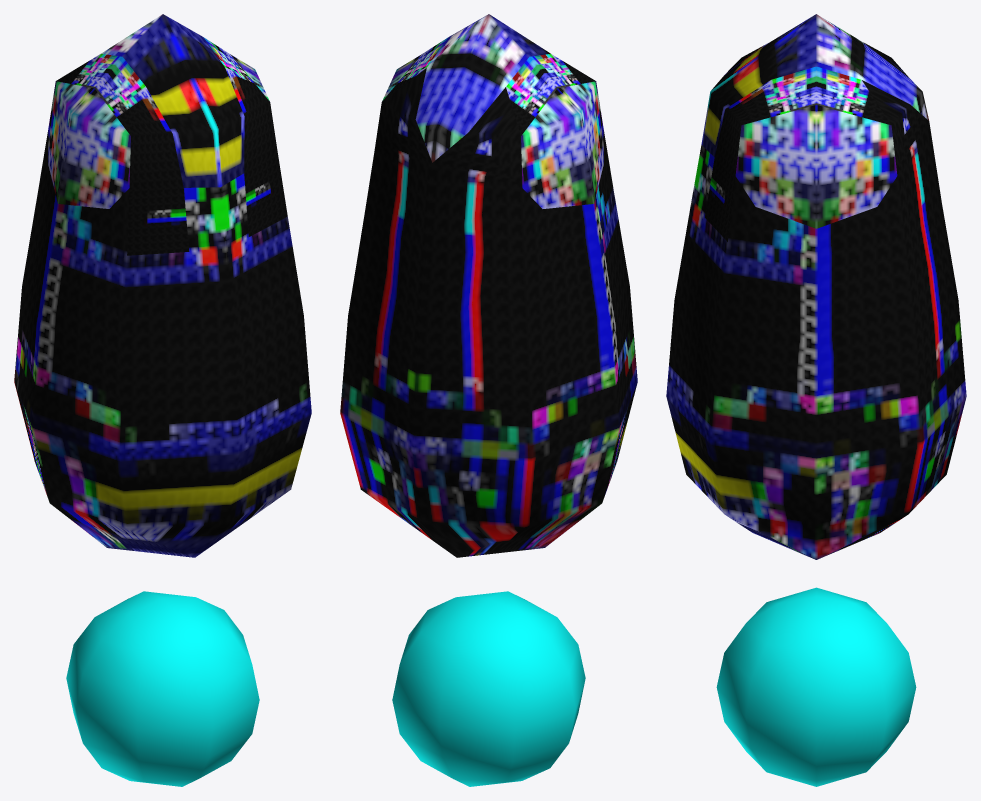
The model's file is cloth_luigi_model.glb.
The picture shows the model from 3 angles, left to right: view 1: azimuth 30°, elevation 25°; view 2: azimuth 150°, elevation 25°; view 3: azimuth 270°, elevation 25°; orthographic projection.
Parts seen in each view (by area): view 1: cloth_luigi_model; view 2: cloth_luigi_model; view 3: cloth_luigi_model.
Boxes of the visible parts, x1=… form: cloth_luigi_model: x1=14, y1=14, x2=311, y2=786; cloth_luigi_model: x1=340, y1=14, x2=637, y2=786; cloth_luigi_model: x1=666, y1=14, x2=966, y2=786.
Size of the model in its own units: 30.77 by 86.34 by 30.77.
Materials: 1 (1 with a texture image).
